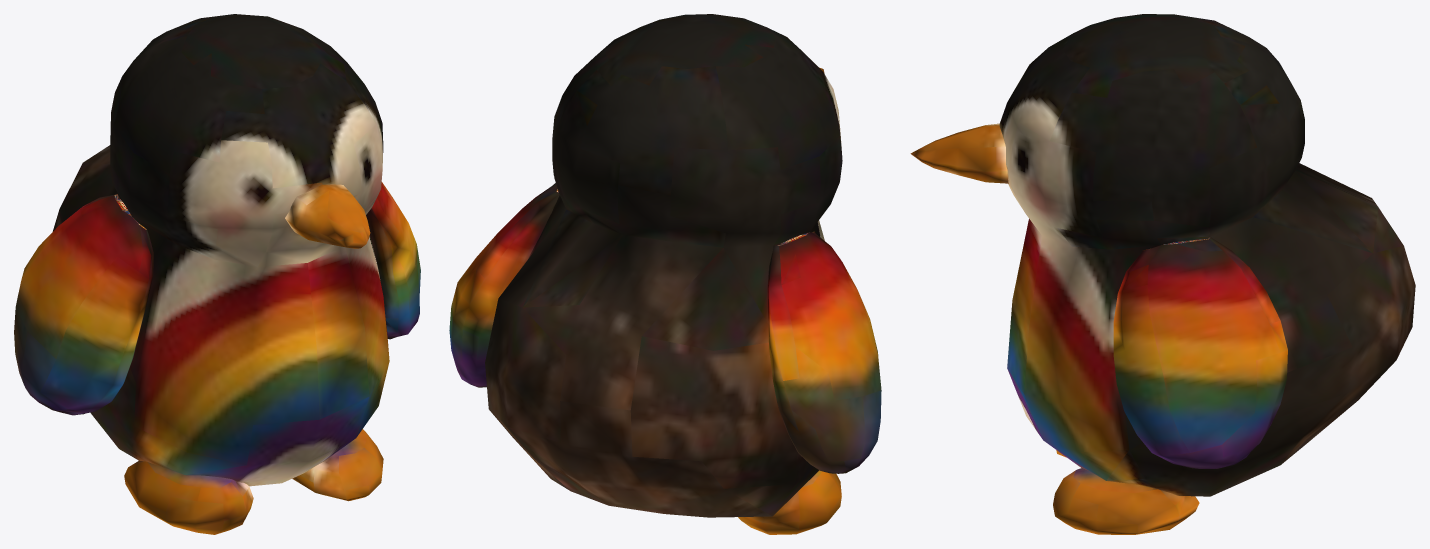
Rendered from penguin-01-44-rainbow-ring.gltf.
3 renders of one model, left to right at view 1: azimuth 30°, elevation 25°; view 2: azimuth 150°, elevation 25°; view 3: azimuth 270°, elevation 25°, orthographic. The views are drawn at different scales.
Visible parts, largest first — view 1: penguin-01-44-rainbow-ring; view 2: penguin-01-44-rainbow-ring; view 3: penguin-01-44-rainbow-ring.
Boxes of the visible parts, bbox=[...] form: penguin-01-44-rainbow-ring: bbox=[14, 14, 420, 534]; penguin-01-44-rainbow-ring: bbox=[449, 14, 881, 534]; penguin-01-44-rainbow-ring: bbox=[910, 14, 1415, 534].
Size of the model in its own units: 0.2 by 0.2257 by 0.2257.
Materials: 1 (1 with a texture image).
